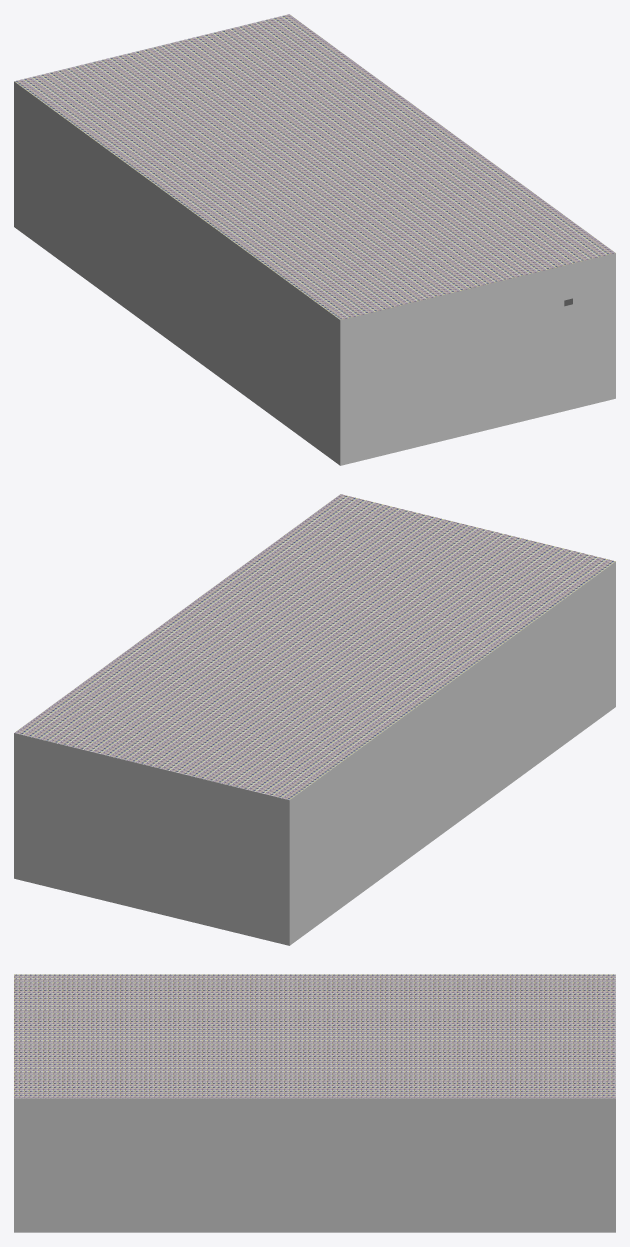
The model's file is 9 One Billion Pounds.glb.
3 renders of one model, top to bottom at view 1: azimuth 30°, elevation 25°; view 2: azimuth 150°, elevation 25°; view 3: azimuth 270°, elevation 25°, orthographic. The views are drawn at different scales.
Parts seen in each view (by area): view 1: 9 One Billion Pounds; view 2: 9 One Billion Pounds; view 3: 9 One Billion Pounds.
Part boxes in pixels (x1,y1,x2,y2): 9 One Billion Pounds: (14,14,615,465); 9 One Billion Pounds: (14,494,615,945); 9 One Billion Pounds: (14,974,615,1232).
Size of the model in its own units: 4.45 by 2.25 by 9.13.
2 materials, 1 textured.
